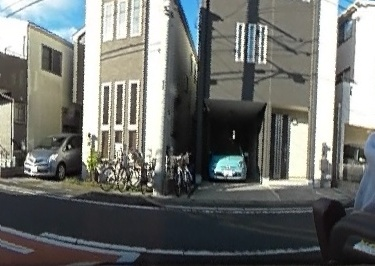person: (366, 17, 375, 263)
